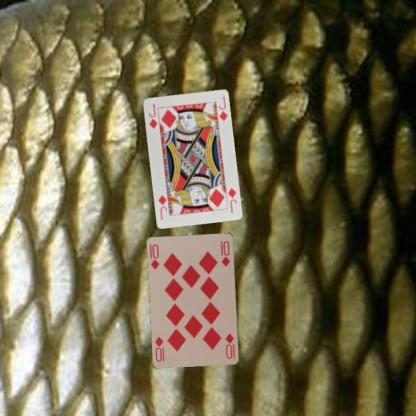10d: (223, 331, 236, 360), (148, 241, 160, 271)
Jd: (225, 185, 238, 214), (146, 102, 158, 130)
